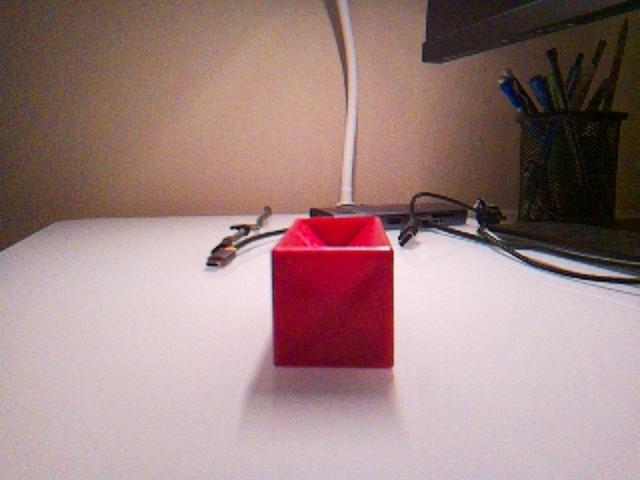red: (270, 214, 396, 370)
